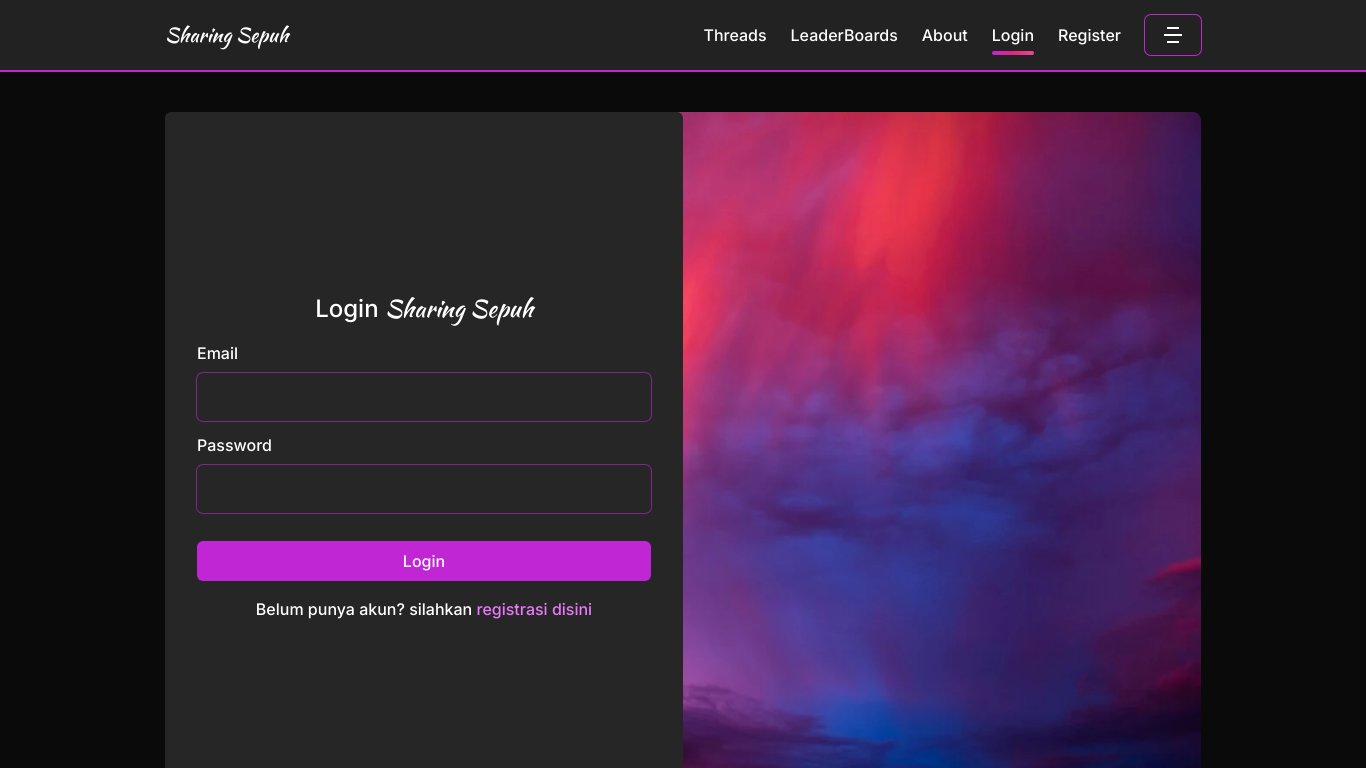
Test: login spec › should display input note error and button login disable when password greater than 15 character
Type "1234567890abcdef" into the password field labelled "Password" at coordinates (424, 489), box [197,465,651,513]
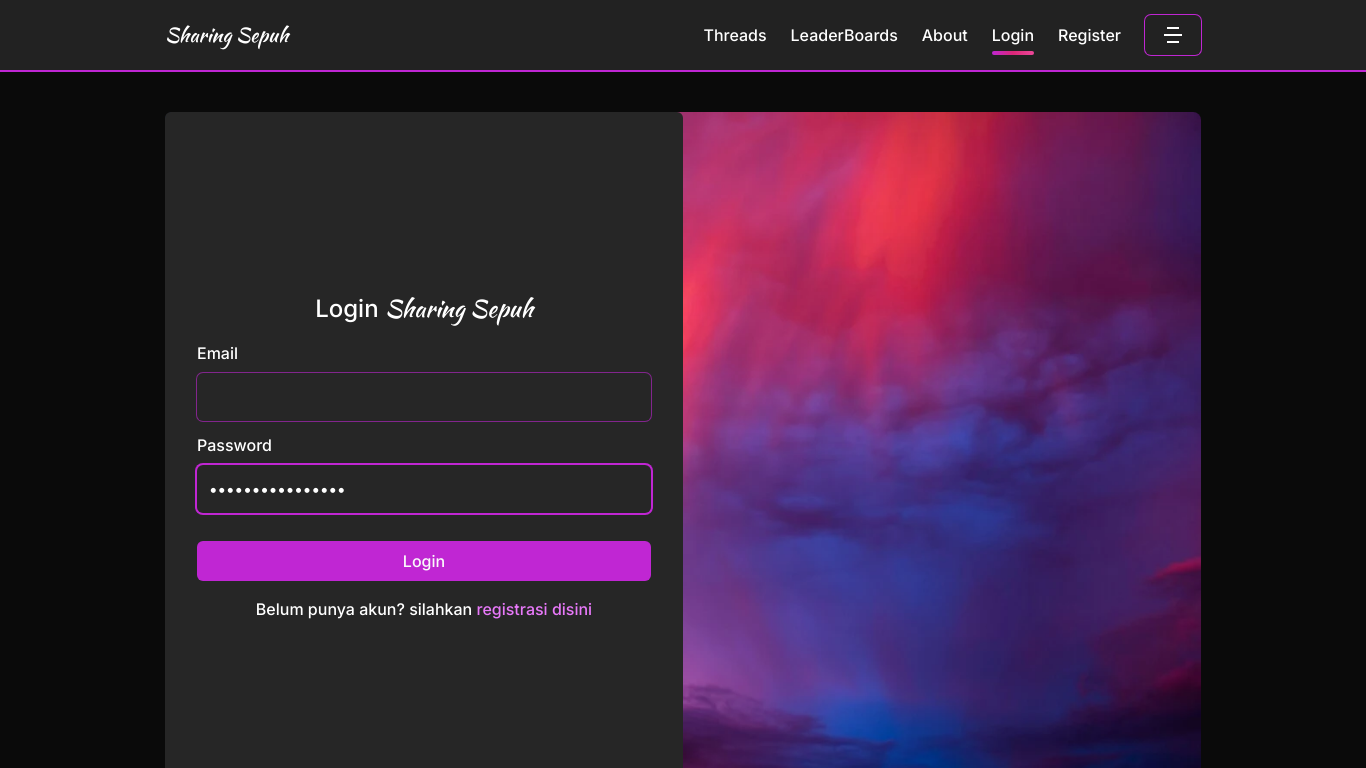
Submit the form, box [197,341,651,581]
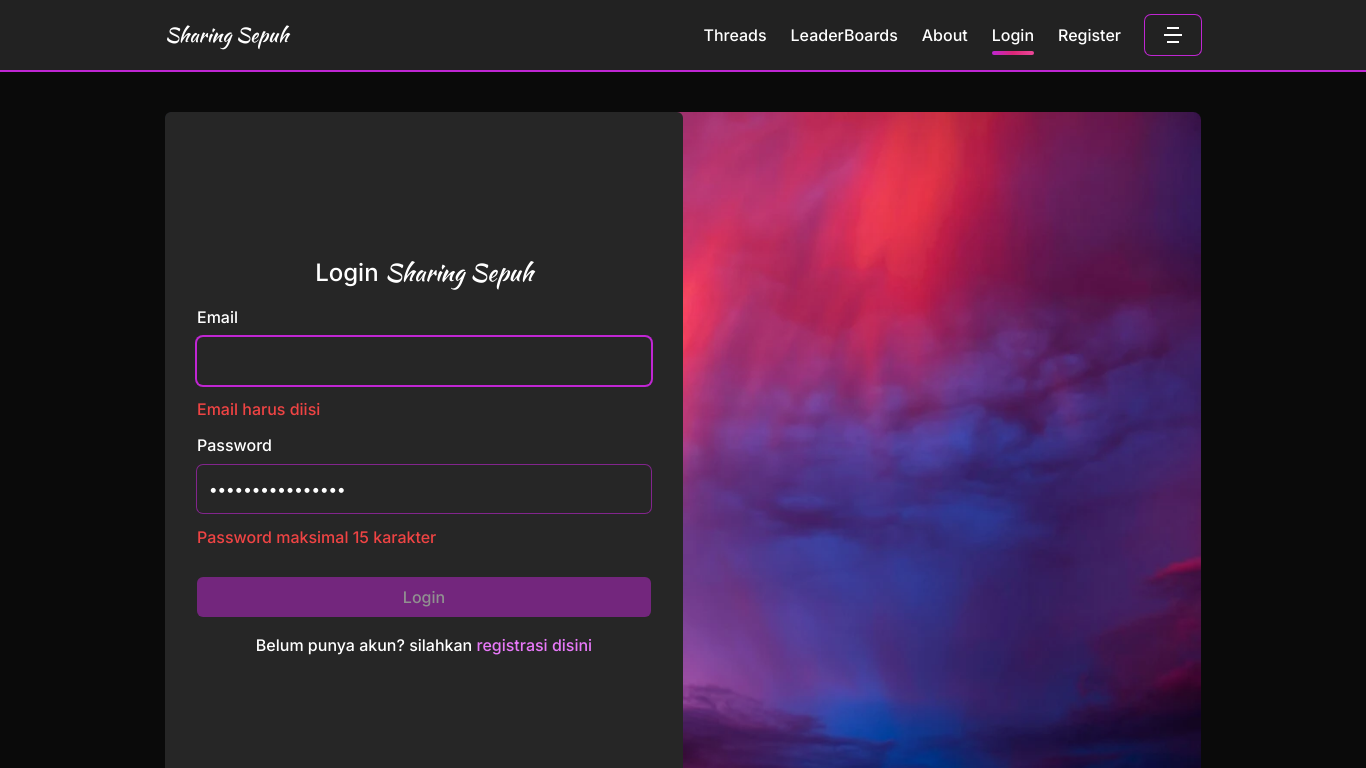
Expected: the button "Login" next to "About" is disabled, [992,23,1034,47]
Result: the text "Email harus diisi" is shown at [197,399,320,419]
Result: the text "Password maksimal 15 karakter" is shown at [197,527,436,547]
